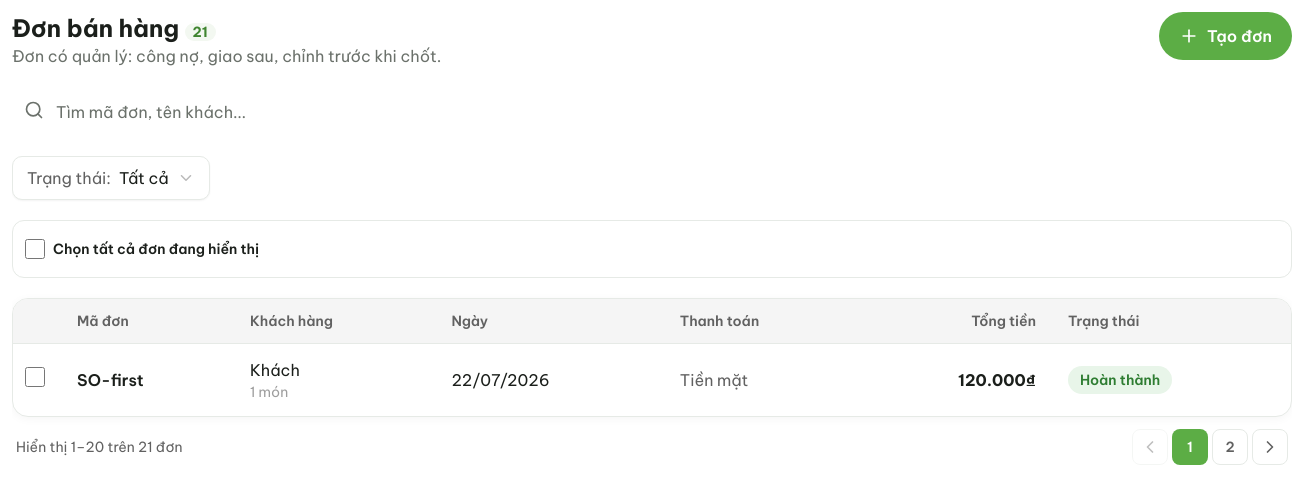
Scenario: OrderList › replaces rows on desktop pagination
Click the button "2": click(1230, 447) [1212,429,1248,465]
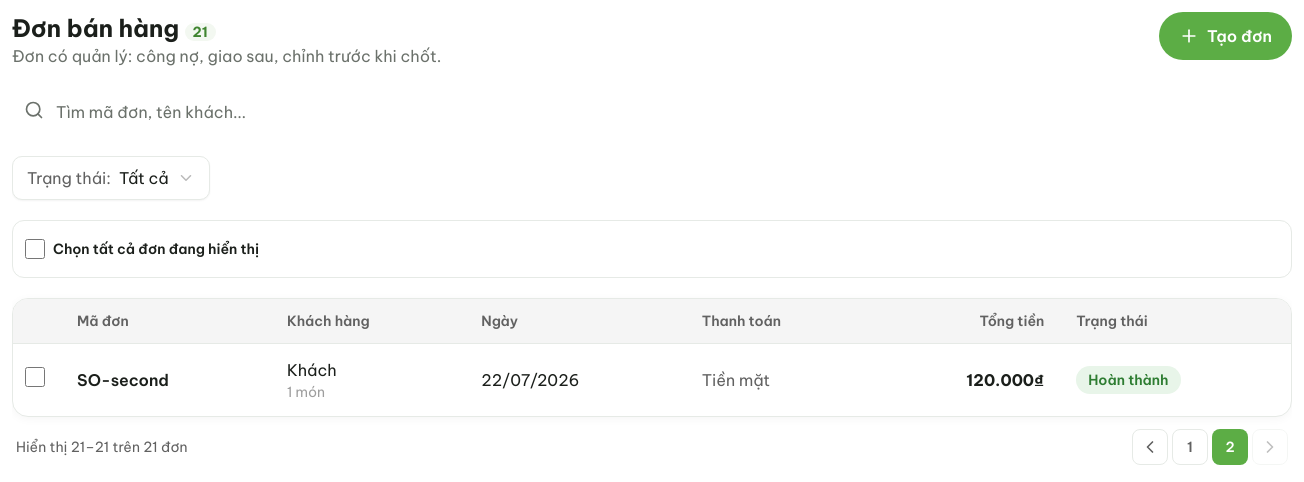
Result: the link "SO-first" is gone
